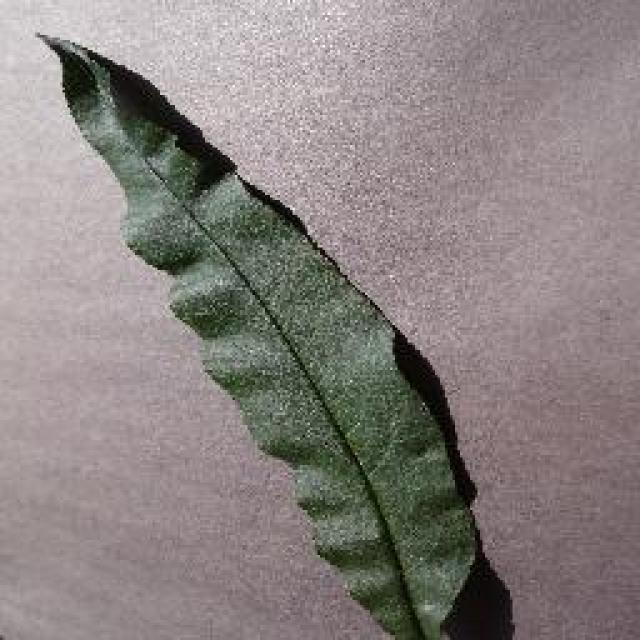Pea_healthy: (97, 112, 475, 568)
